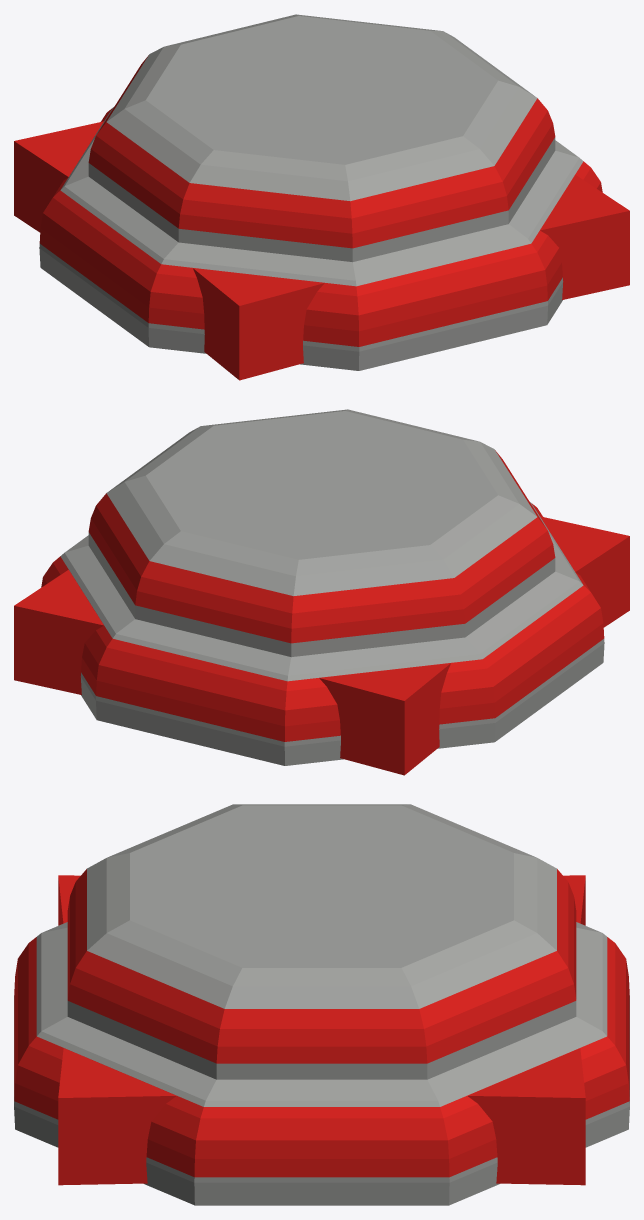
The model's file is base_upgraded_fire.fbx.
The picture shows the model from 3 angles, top to bottom: view 1: azimuth 30°, elevation 25°; view 2: azimuth 150°, elevation 25°; view 3: azimuth 270°, elevation 25°; orthographic projection. The views are drawn at different scales.
Visible parts, largest first — view 1: Circle; view 2: Circle; view 3: Circle.
Boxes of the visible parts, x1=… form: Circle: x1=14, y1=14, x2=629, y2=380; Circle: x1=14, y1=409, x2=629, y2=775; Circle: x1=14, y1=804, x2=629, y2=1205.
Bounding box in the file's own units: 185 × 62.87 × 185.
1 material, 1 textured.
